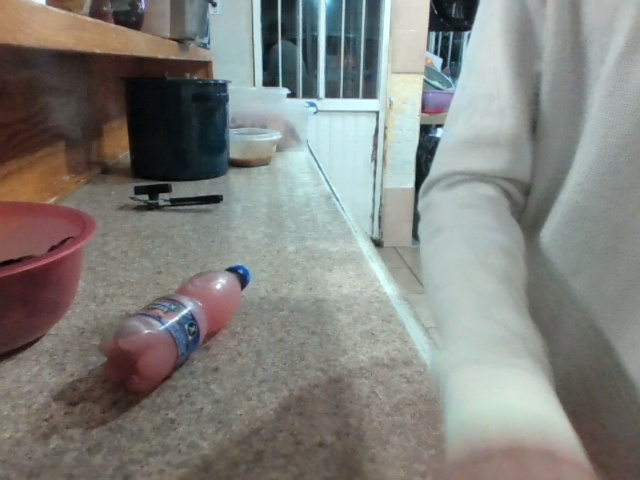botella: (81, 250, 327, 412)
